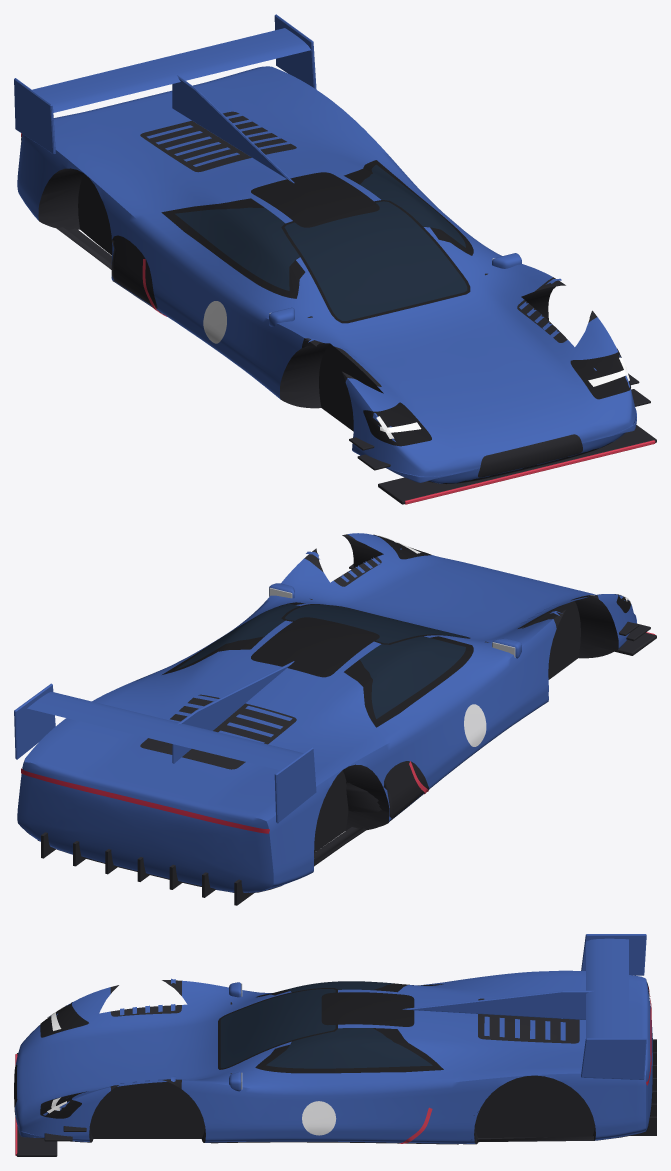
The model's file is endura.glb.
3 renders of one model, top to bottom at view 1: azimuth 30°, elevation 25°; view 2: azimuth 150°, elevation 25°; view 3: azimuth 270°, elevation 25°, orthographic. The views are drawn at different scales.
Parts seen in each view (by area): view 1: body, wing; view 2: body, wing; view 3: body, wing.
Boxes of the visible parts, <box> form: body: <box>17,66,656,504</box>; wing: <box>14,14,316,154</box>; body: <box>17,533,656,905</box>; wing: <box>14,683,316,823</box>; body: <box>14,970,656,1156</box>; wing: <box>581,934,646,1079</box>.
Size of the model in its own units: 2.07 by 1.04 by 5.06.
